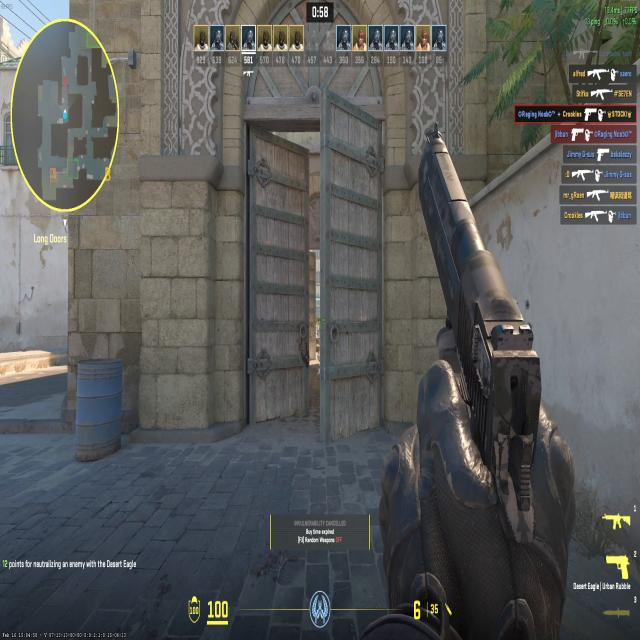player: (314, 320, 324, 376)
